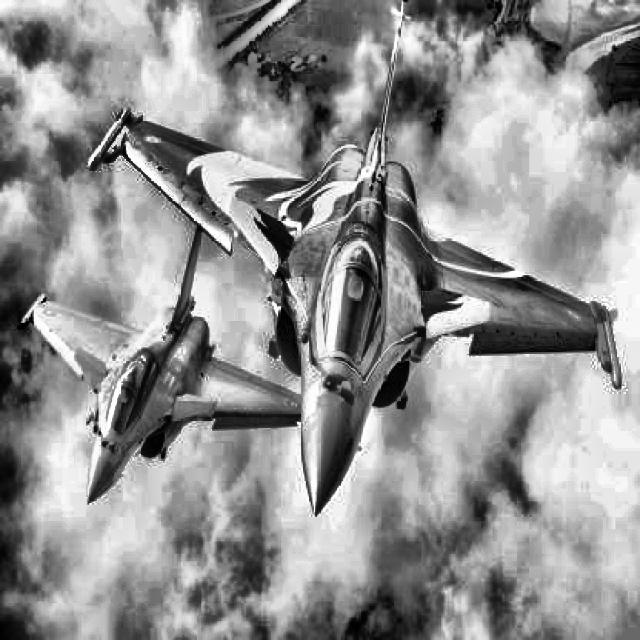Rafale: (88, 0, 622, 518), (17, 226, 301, 505)
